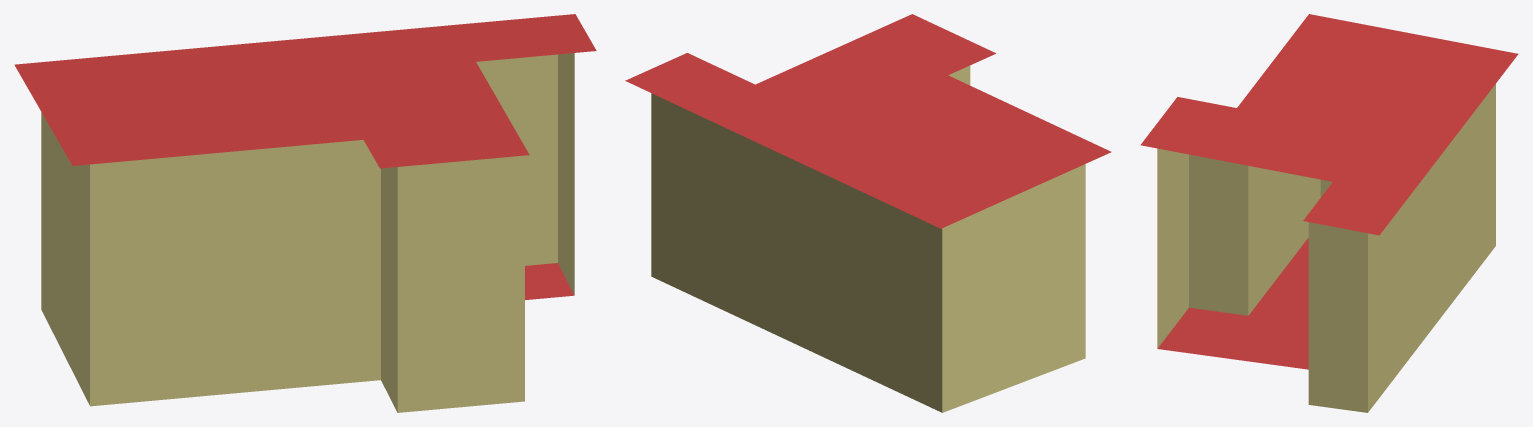
3 views of the same model, side by side, from view 1: azimuth 30°, elevation 25°; view 2: azimuth 150°, elevation 25°; view 3: azimuth 270°, elevation 25° (orthographic). The views are drawn at different scales.
Size of the model in its own units: 13.88 by 10.55 by 6.2.
